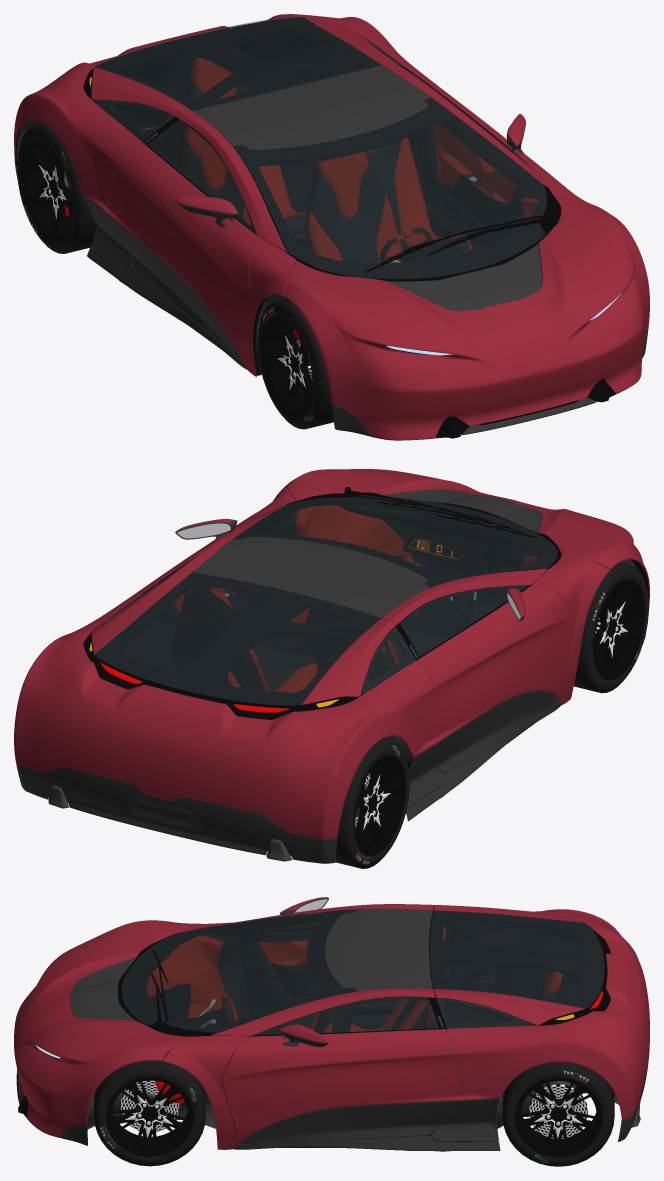
File: carmine_gt.glb
3 views of the same model, one above another, from view 1: azimuth 30°, elevation 25°; view 2: azimuth 150°, elevation 25°; view 3: azimuth 270°, elevation 25° (orthographic). The views are drawn at different scales.
Parts seen in each view (by area): view 1: BodyHood, BodyWindshield, BodyRearwindow, BodyDoorRColor1, BodyRearPanelsColor1, BodyRoofPanel, BodyWindshieldGasket, InteriorSeatsColor1, InteriorSeatsColor2, BodyPillars, InteriorPillar, InteriorRearHatch (+21 smaller); view 2: BodyRearPanelsColor1, BodyRearwindow, BodyWindshield, BodyPanelsColor2, BodyDoorRColor1, BodyRoofPanel, BodyHood, InteriorRearHatch, BodyPillars, InteriorPillar, InteriorDashMid, BodyWindshieldGasket (+21 smaller); view 3: BodyWindshield, BodyRearPanelsColor1, BodyDoorLColor1, BodyHood, BodyRearwindow, BodyRoofPanel, BodyPillars, BodyWindshieldGasket, BodyDoorLColor2, BodyPanelsColor2, InteriorRearHatch, WheelFrontLRim (+25 smaller).
Boxes of the visible parts, bbox=[...] form: BodyHood: bbox=[282, 197, 649, 440]; BodyWindshield: bbox=[233, 97, 546, 278]; BodyRearwindow: bbox=[94, 16, 381, 110]; BodyDoorRColor1: bbox=[104, 142, 256, 361]; BodyRearPanelsColor1: bbox=[14, 14, 427, 209]; BodyRoofPanel: bbox=[193, 65, 430, 149]; BodyWindshieldGasket: bbox=[233, 99, 561, 281]; InteriorSeatsColor1: bbox=[184, 57, 472, 263]; InteriorSeatsColor2: bbox=[179, 78, 469, 263]; BodyPillars: bbox=[175, 61, 595, 376]; InteriorPillar: bbox=[157, 37, 432, 167]; InteriorRearHatch: bbox=[93, 17, 380, 117]; BodyRearPanelsColor1: bbox=[14, 569, 433, 839]; BodyRearwindow: bbox=[94, 572, 380, 705]; BodyWindshield: bbox=[233, 495, 557, 587]; BodyPanelsColor2: bbox=[16, 635, 645, 863]; BodyDoorRColor1: bbox=[416, 585, 572, 745]; BodyRoofPanel: bbox=[193, 536, 430, 618]; BodyHood: bbox=[283, 469, 649, 607]; InteriorRearHatch: bbox=[94, 573, 394, 709]; BodyPillars: bbox=[179, 487, 609, 704]; InteriorPillar: bbox=[177, 574, 380, 684]; InteriorDashMid: bbox=[337, 501, 538, 623]; BodyWindshieldGasket: bbox=[234, 495, 561, 587]; BodyWindshield: bbox=[121, 909, 356, 1032]; BodyRearPanelsColor1: bbox=[434, 905, 649, 1119]; BodyDoorLColor1: bbox=[221, 1029, 465, 1144]; BodyHood: bbox=[14, 920, 195, 1137]; BodyRearwindow: bbox=[430, 910, 604, 1008]; BodyRoofPanel: bbox=[324, 908, 432, 991]; BodyPillars: bbox=[162, 904, 435, 1149]; BodyWindshieldGasket: bbox=[117, 910, 356, 1036]; BodyDoorLColor2: bbox=[239, 1100, 465, 1144]; BodyPanelsColor2: bbox=[16, 1054, 649, 1151]; InteriorRearHatch: bbox=[429, 910, 603, 1025]; WheelFrontLRim: bbox=[106, 1077, 193, 1156].
Bounding box in the file's own units: 2.34 × 1.15 × 4.36.
Materials: 22 (5 with a texture image).
